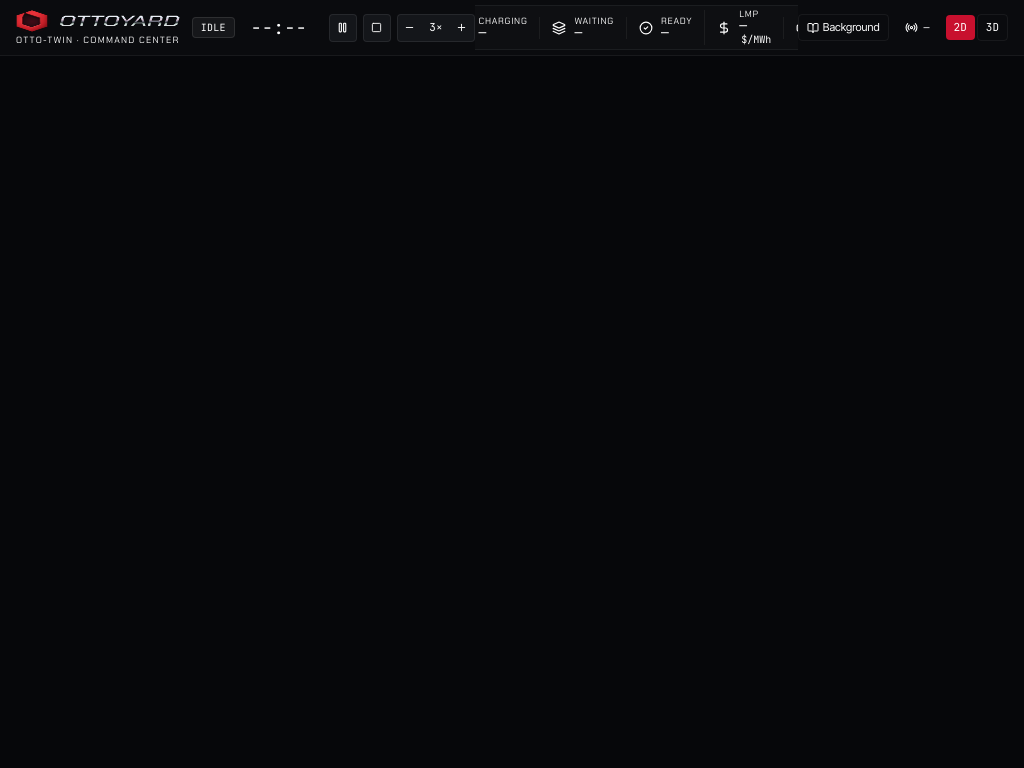
it: TopBar: the run transport, beside the clock › Stop asks first, and stops only when confirmed
Later steps or results of the test are not shown.
Click the button named "Stop run" at (377, 28), box [363, 14, 391, 42]
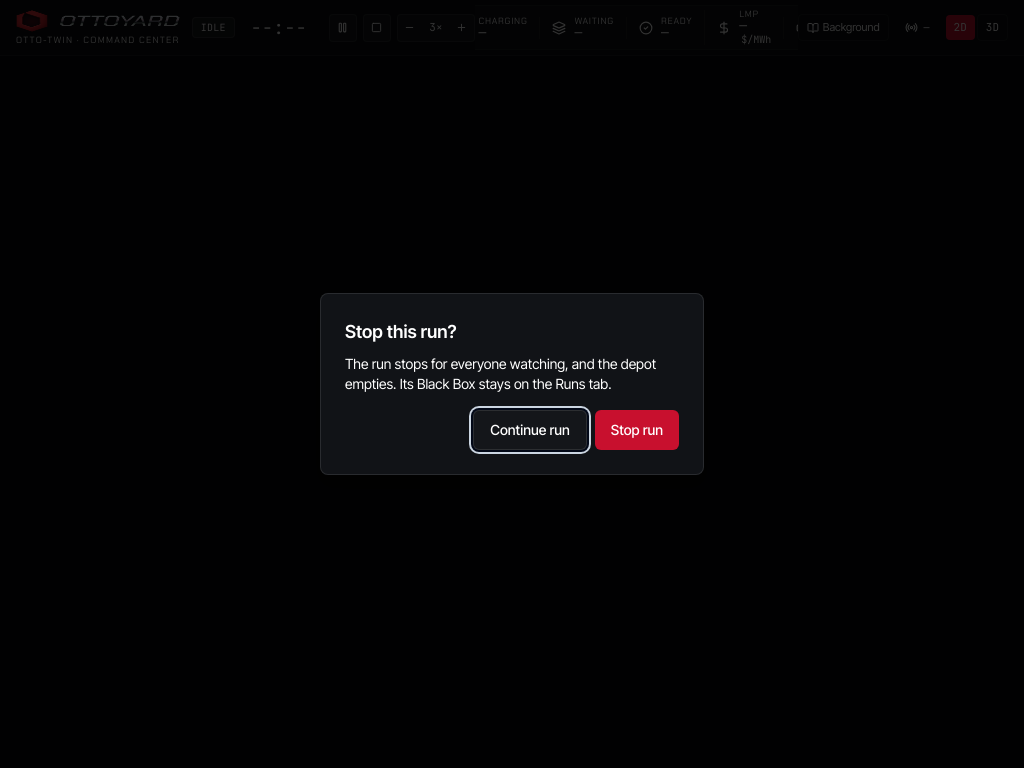
Now the heading "Stop this run?" is shown, box [345, 321, 457, 342]
